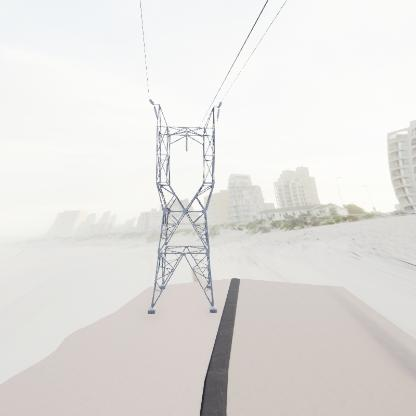tower: (144, 92, 227, 320)
